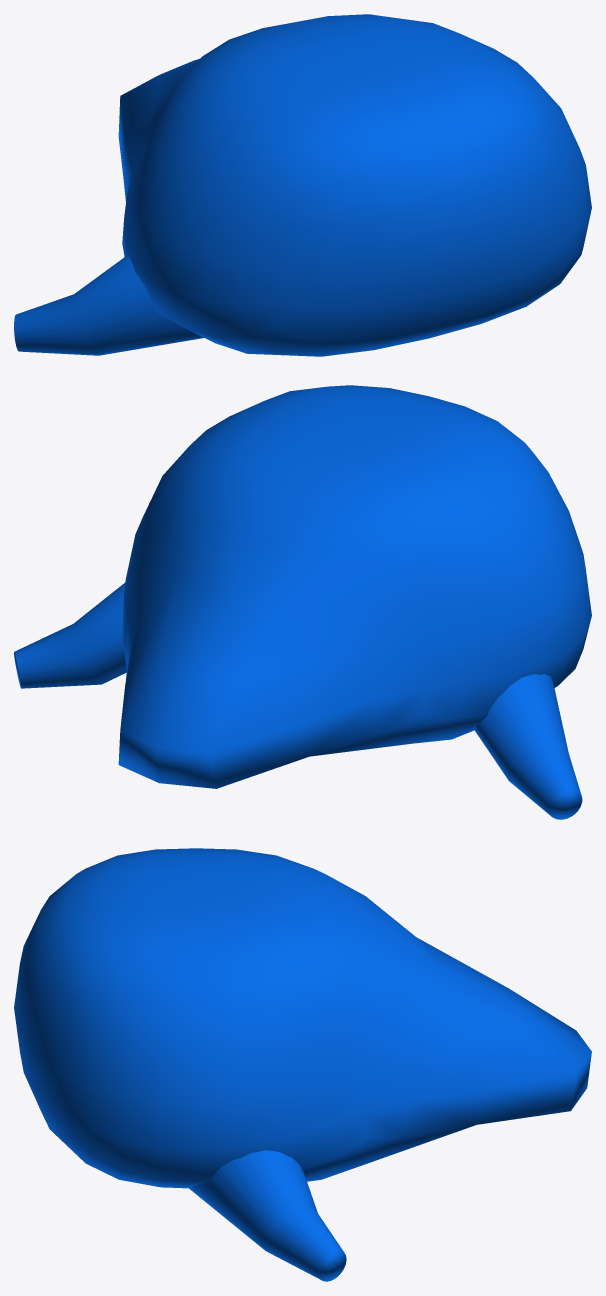
File: lvl3_helmet.fbx
The picture shows the model from 3 angles, top to bottom: view 1: azimuth 30°, elevation 25°; view 2: azimuth 150°, elevation 25°; view 3: azimuth 270°, elevation 25°; orthographic projection. The views are drawn at different scales.
Visible parts, largest first — view 1: pCube28; view 2: pCube28; view 3: pCube28.
Part boxes in pixels (bbox=[...]): pCube28: bbox=[14, 14, 591, 356]; pCube28: bbox=[14, 385, 591, 819]; pCube28: bbox=[14, 848, 591, 1281].
Size of the model in its own units: 53.92 by 24.69 by 49.31.
